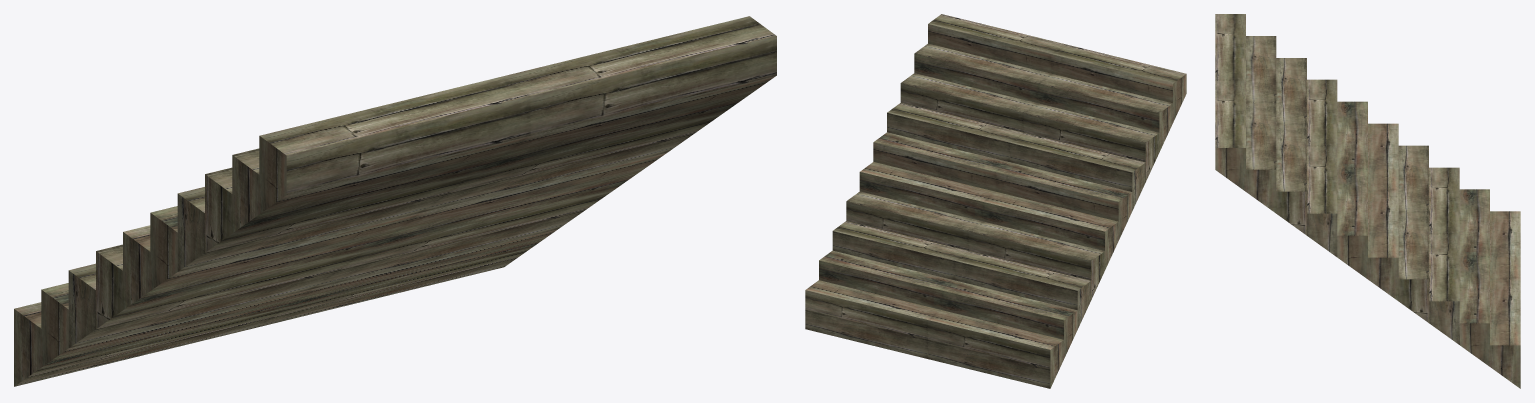
Rendered from pier_scaffold_stairs.fbx.
3 views of the same model, side by side, from view 1: azimuth 30°, elevation 25°; view 2: azimuth 150°, elevation 25°; view 3: azimuth 270°, elevation 25° (orthographic). The views are drawn at different scales.
Visible parts, largest first — view 1: stairs1; view 2: stairs1; view 3: stairs1.
Part boxes in pixels (bbox=[...]): stairs1: bbox=[14, 16, 776, 386]; stairs1: bbox=[805, 14, 1186, 388]; stairs1: bbox=[1215, 14, 1520, 388].
Bounding box in the file's own units: 1404 × 1179 × 1353.
1 material, 1 textured.
